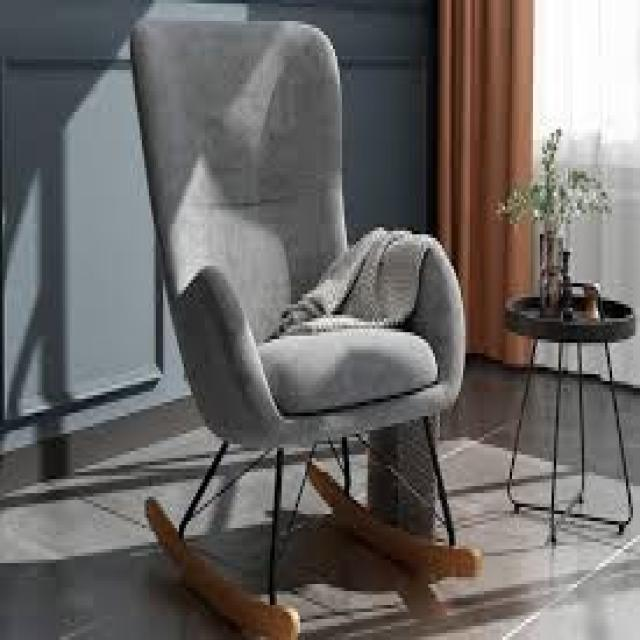chair: (79, 5, 512, 640)
